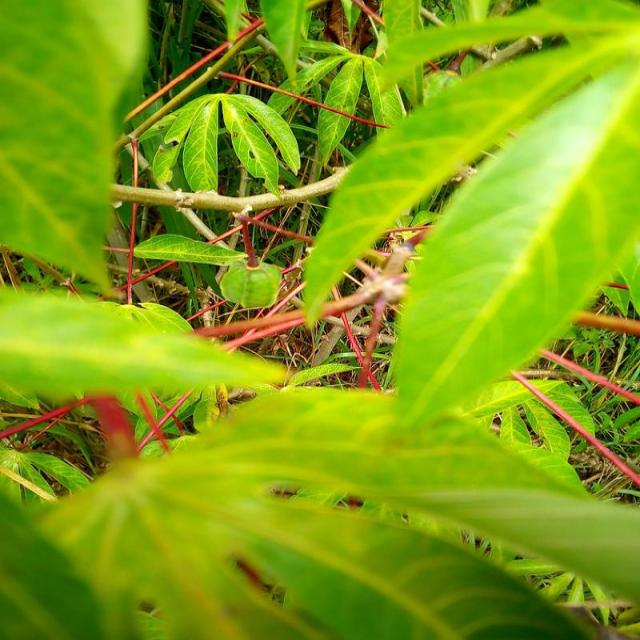cassava leaf: (3, 1, 639, 637), (392, 55, 640, 431), (150, 91, 302, 198)
